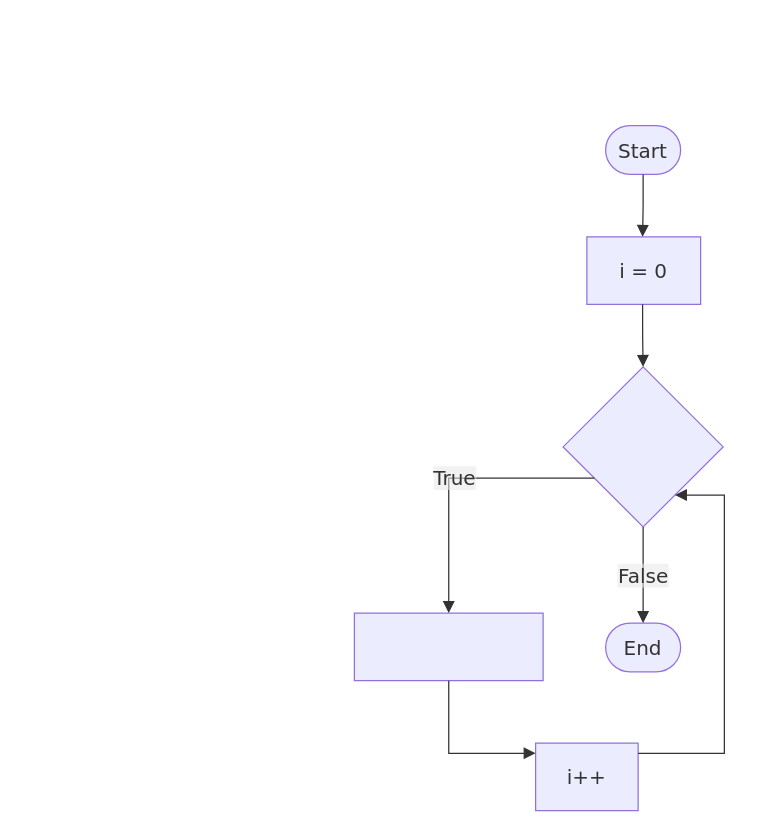
This 758x833 diagram has some shape labels left out. The shapes that lost their labels are listed below. From the top down, each one's box as (x1, y1, x2, y2) in pixels, then its label:
(562, 366, 723, 527): i < count?
(353, 612, 543, 681): Data processing
